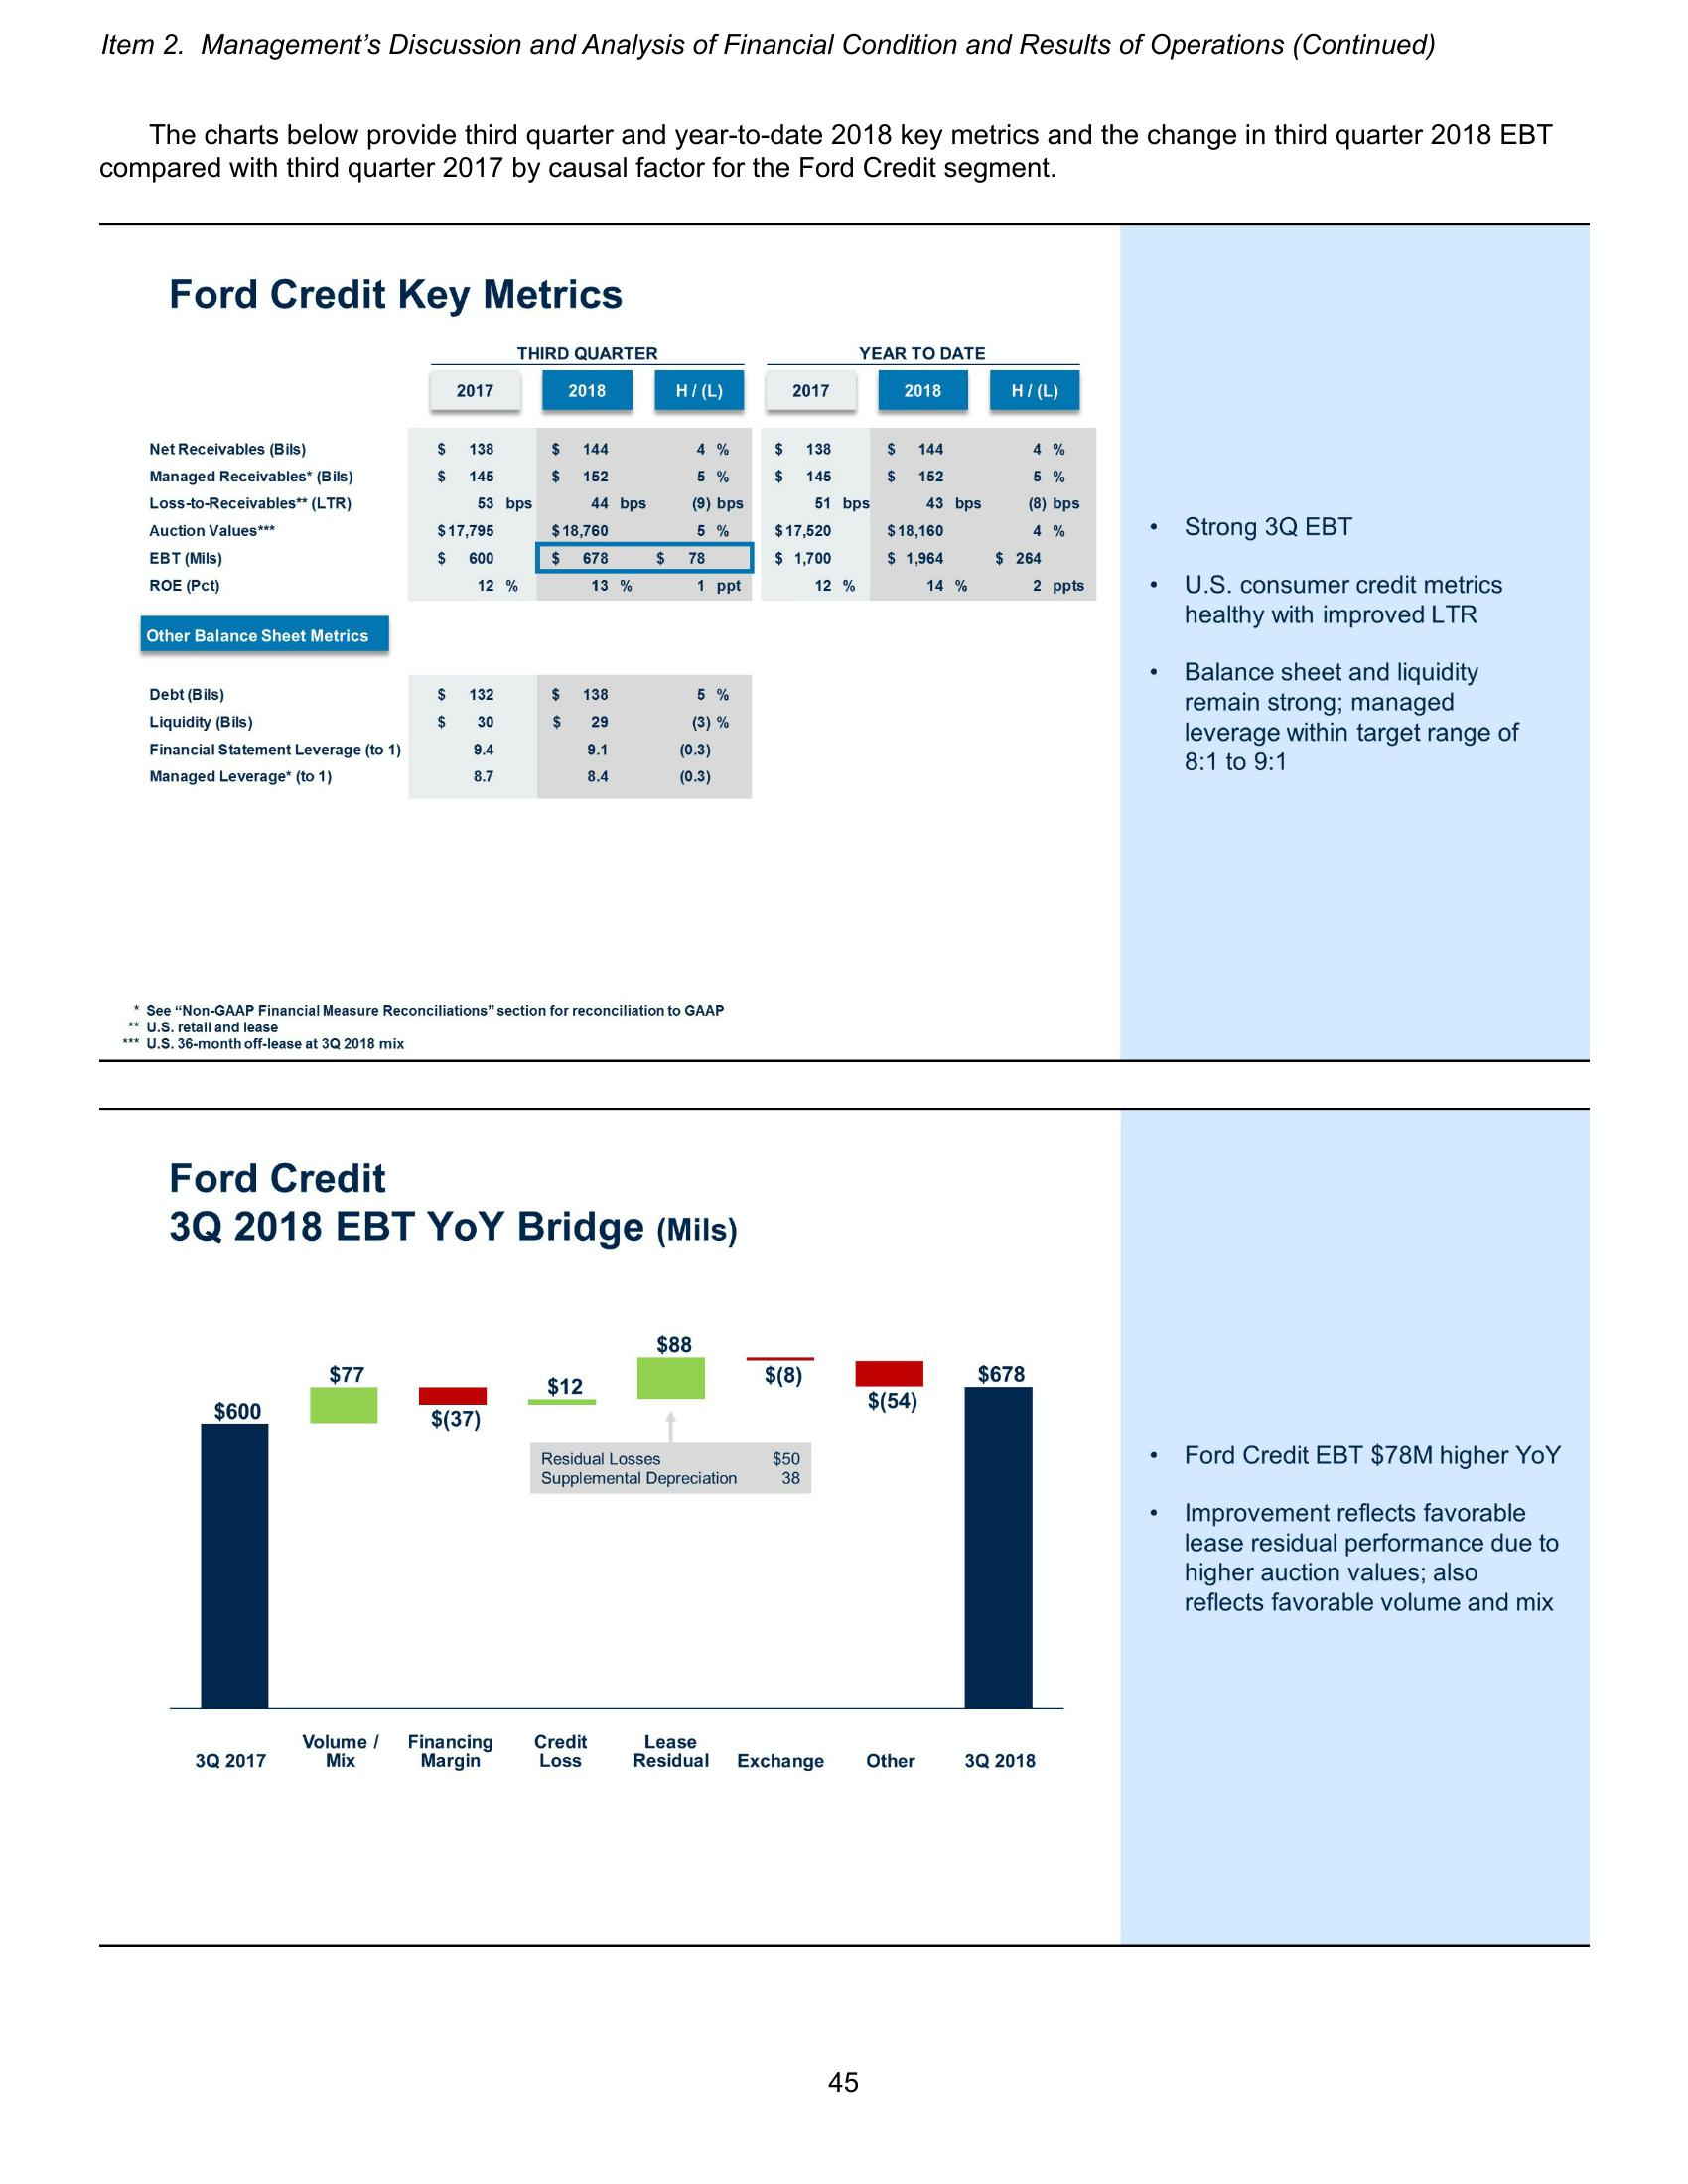table: (135, 337, 1099, 603), (138, 665, 755, 801)
